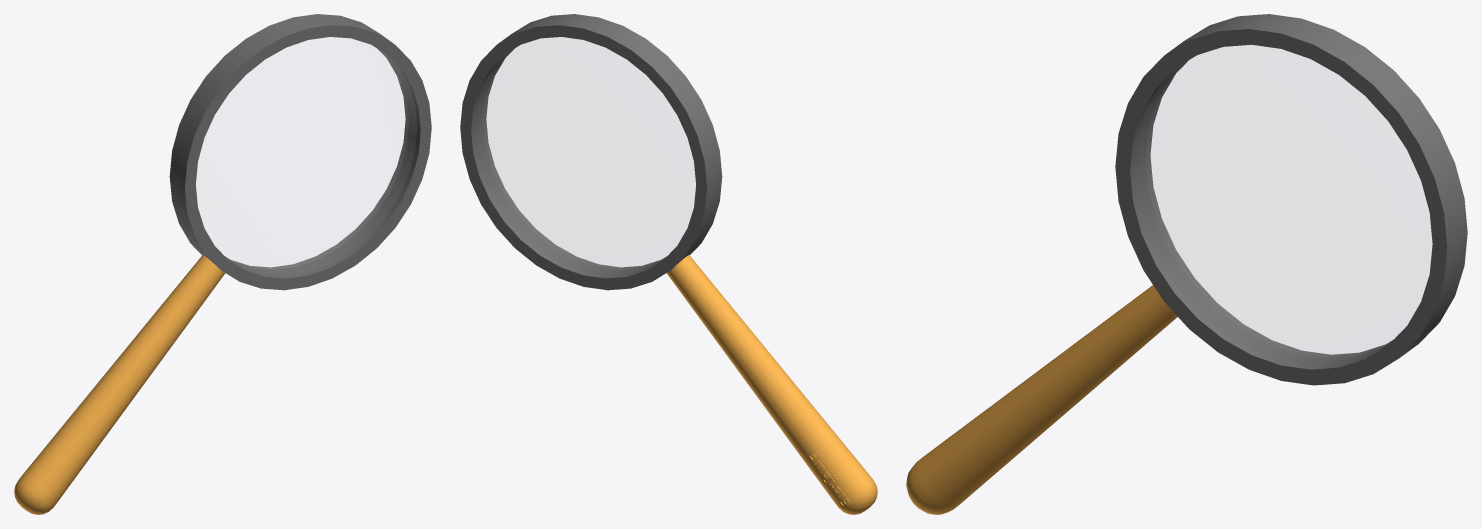
File: magnifying_glass_tilted_right.fbx
3 views of the same model, side by side, from view 1: azimuth 30°, elevation 25°; view 2: azimuth 150°, elevation 25°; view 3: azimuth 330°, elevation 25° (orthographic). The views are drawn at different scales.
Parts seen in each view (by area): view 1: Sphere.529; view 2: Sphere.529; view 3: Sphere.529.
Boxes of the visible parts, <box> form: Sphere.529: <box>14,14,431,514</box>; Sphere.529: <box>460,14,877,514</box>; Sphere.529: <box>906,14,1467,514</box>.
Bounding box in the file's own units: 217 × 217 × 21.23.
2 materials, 1 textured.
